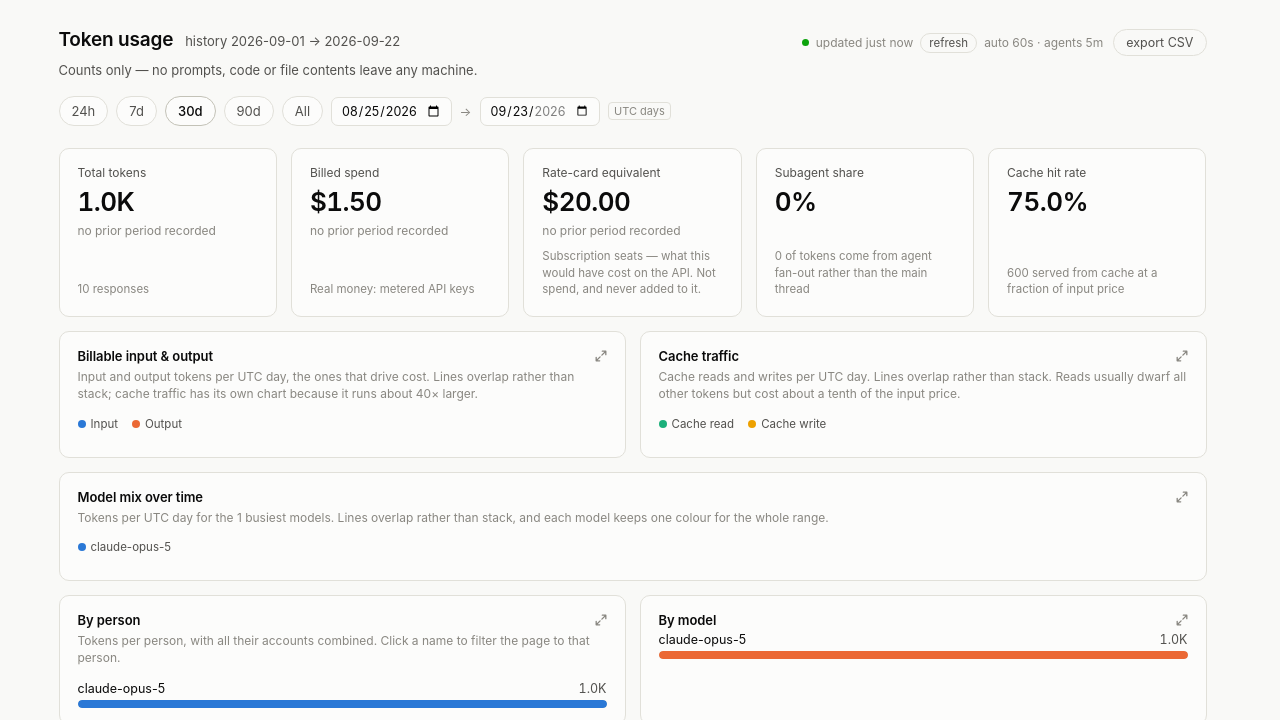
a load that fails keeps the way back › keeps the range controls and a retry when a new range fails
Expected: the text "Total tokens" is shown, [78,165,146,180]
Click the button "7d": (137, 111) [116,96,157,126]
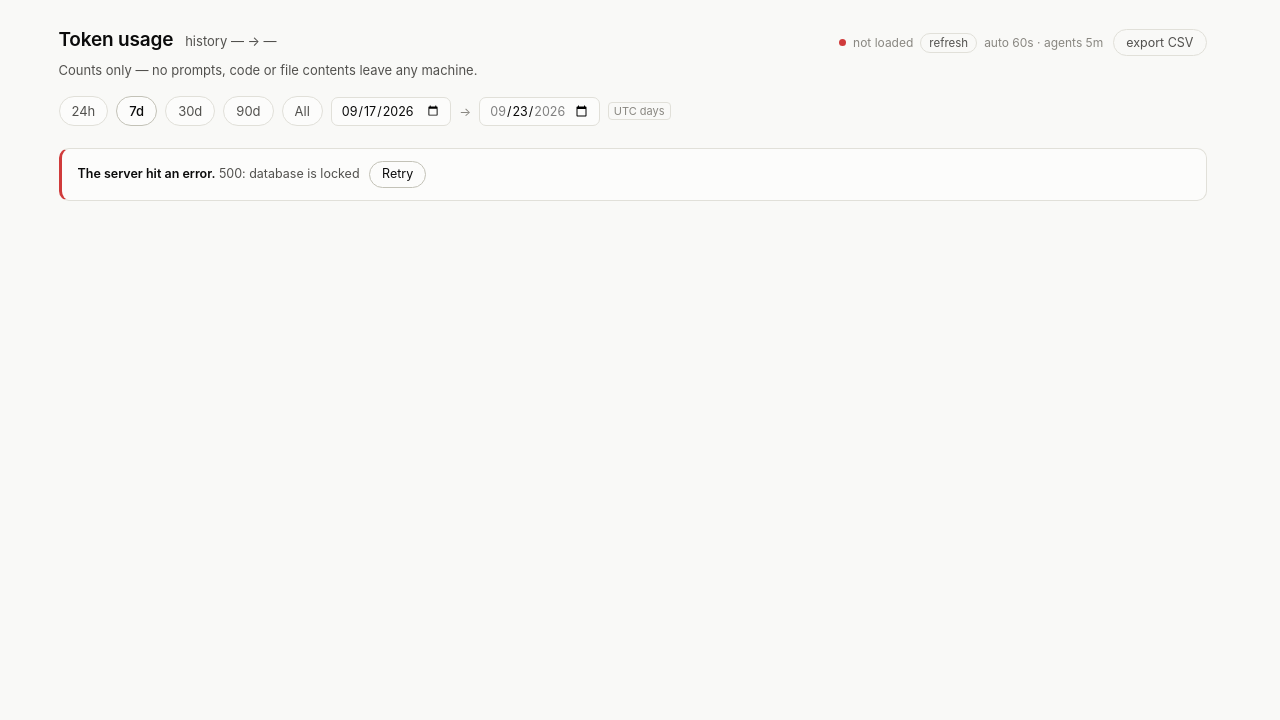
Expected: the button "30d" is shown, [165,96,215,126]
Now the text "The server hit an error." is shown, box [78,166,215,181]
Now the text "The server hit an error. 500: database is locked Retry" is shown, box [58,148,1206,201]
Click the button "Retry": (398, 174) [369,161,426,188]
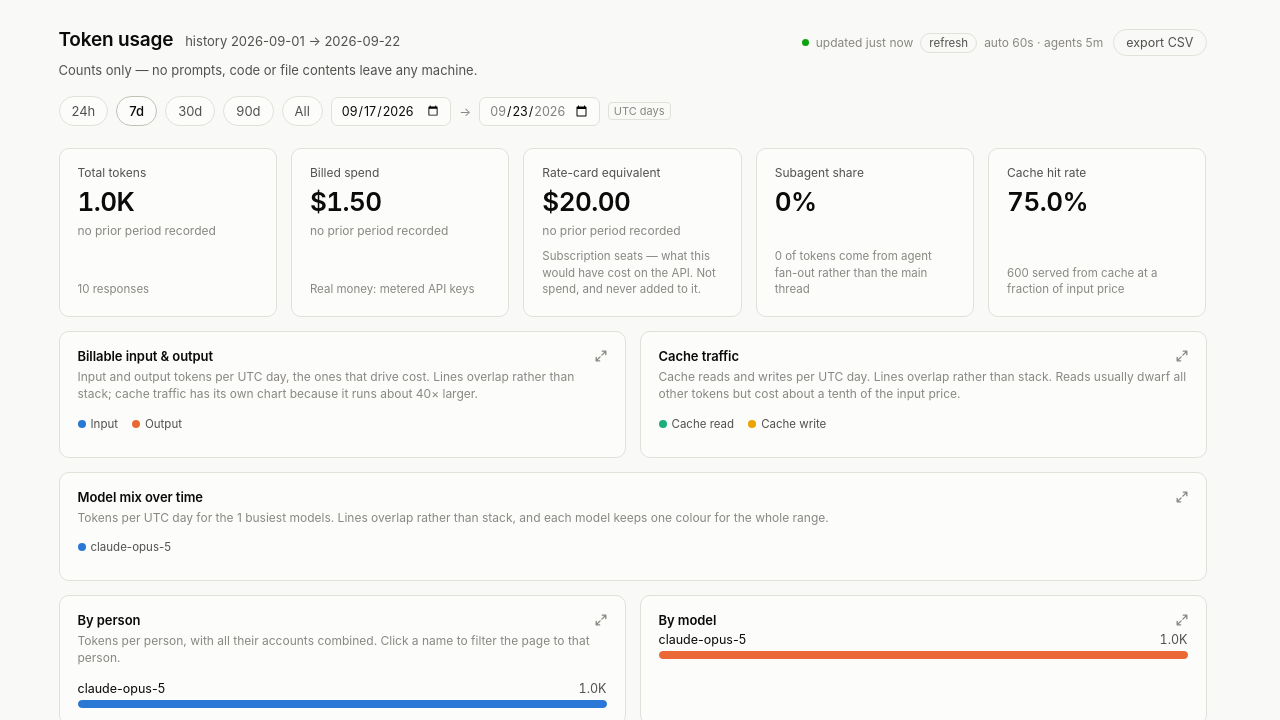
Now the text "Total tokens" is shown, box [78,165,146,180]
